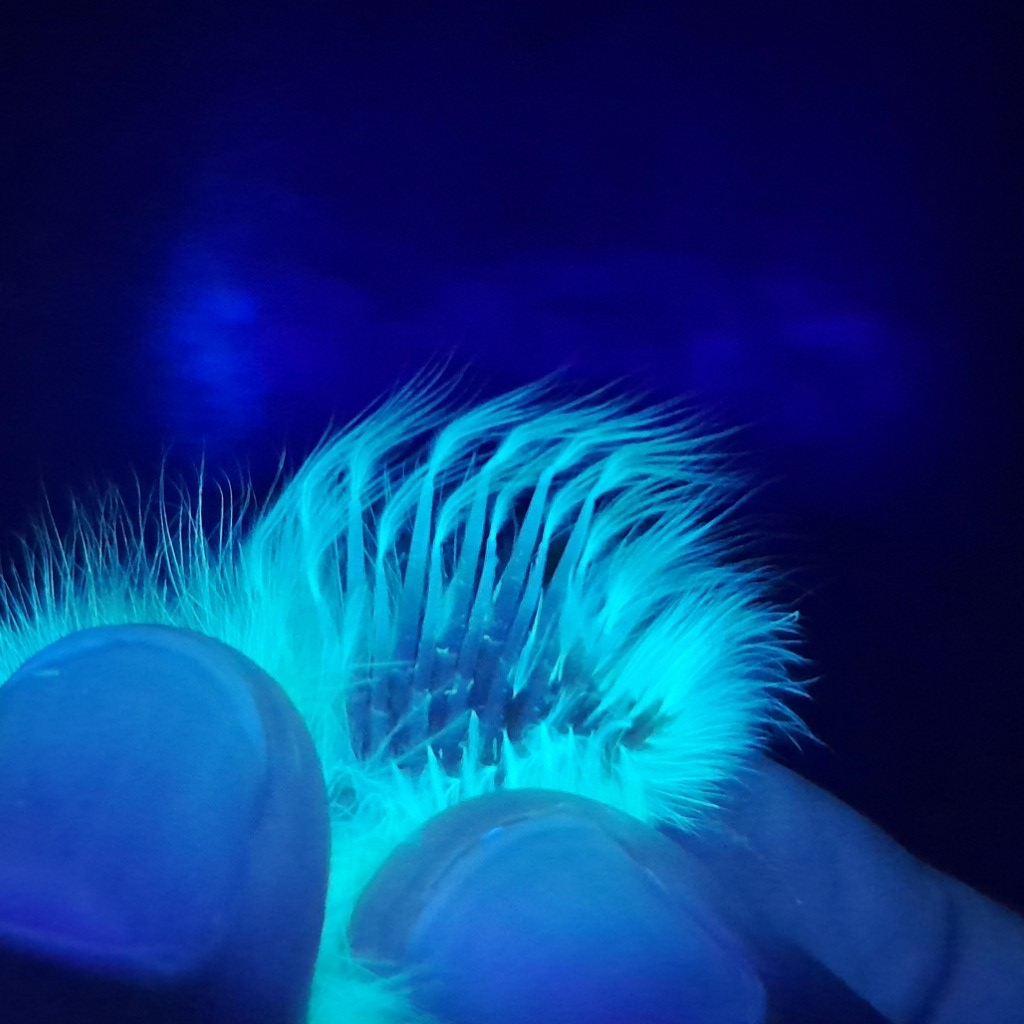female: (322, 461, 666, 807)
